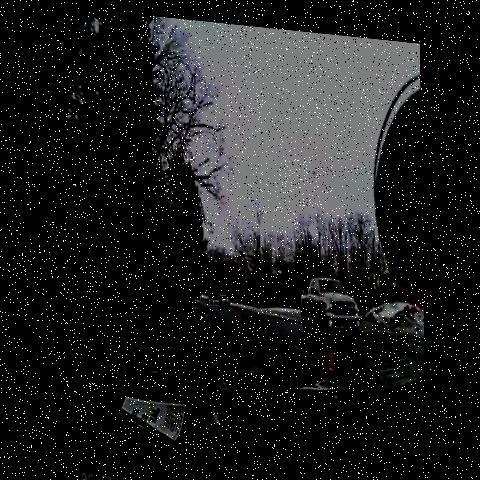pothole: (289, 333, 341, 387), (234, 328, 268, 389)
